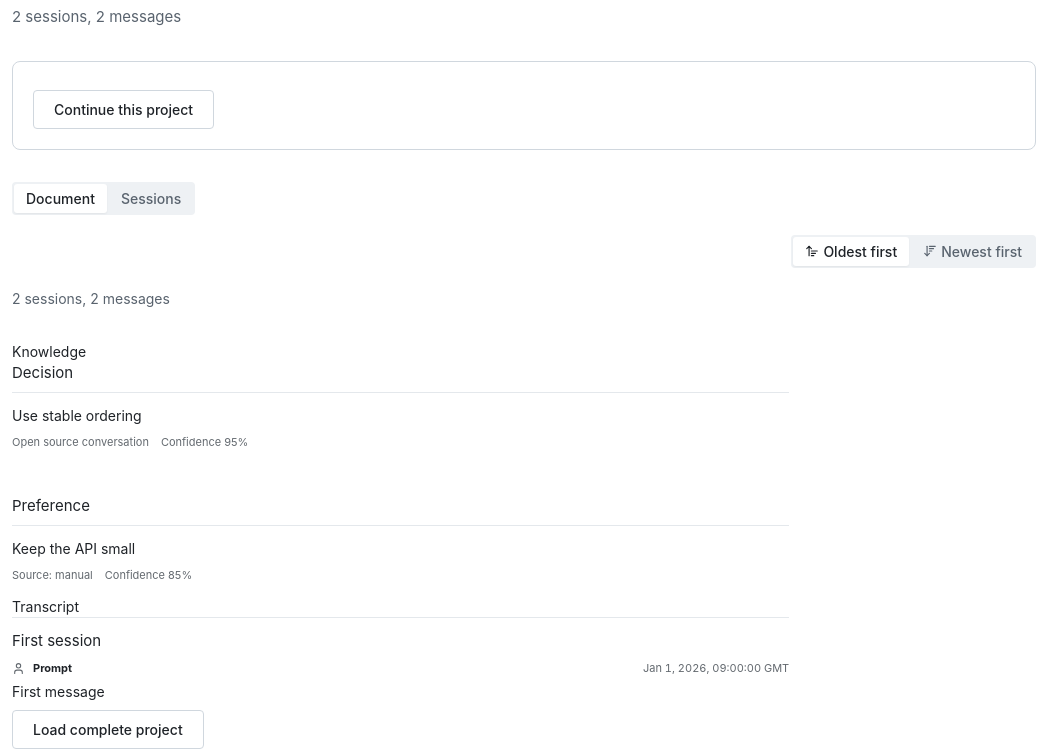
ProjectPage › uses later page totals while loading the complete document
(page scrolled)
Expected: the text "First message" is shown, [12,682,105,700]
Click the button "Load complete project" at (108, 729), box [12,710,204,748]
(page scrolled)
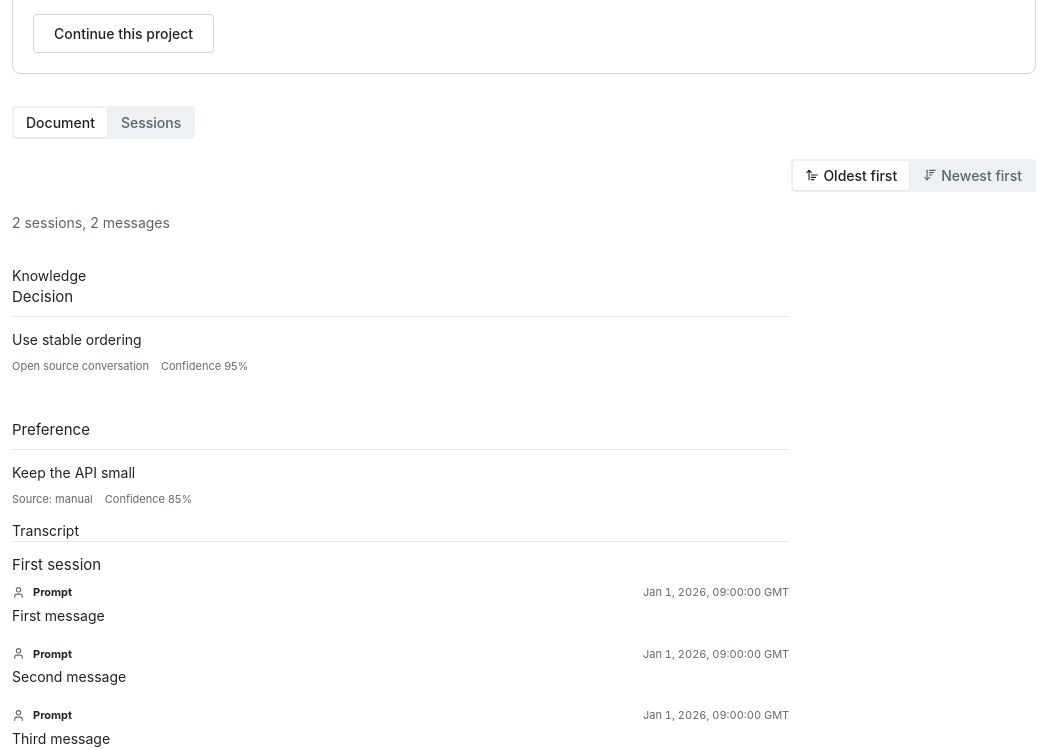
Expected: the text "Third message" is shown, [12,730,110,746]
